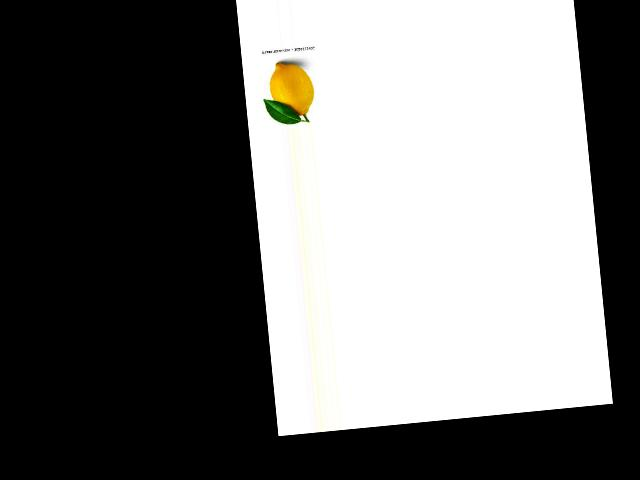lemon: (262, 59, 317, 121)
